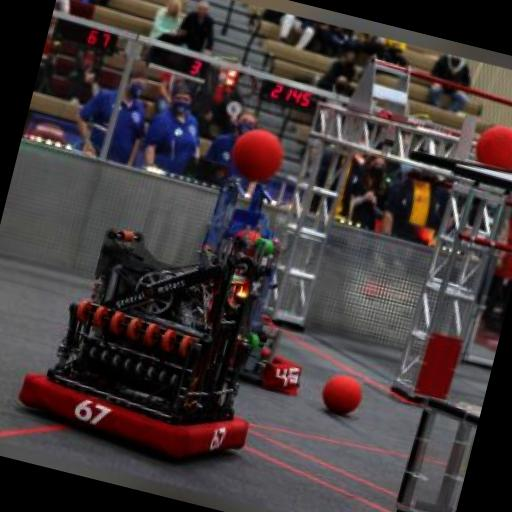robot: (16, 209, 290, 473), (140, 157, 346, 398)
